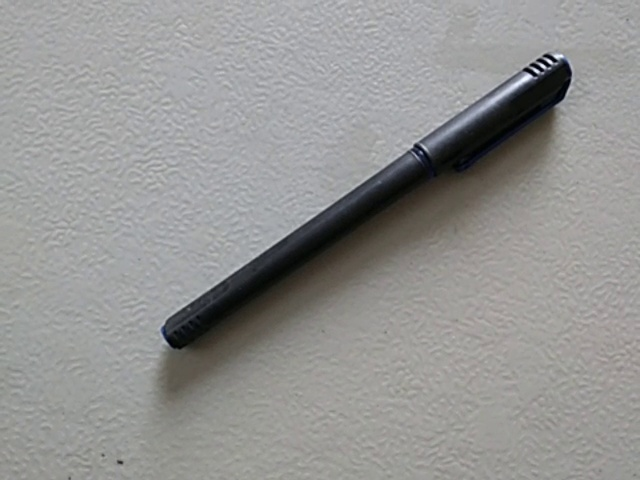Pen: (121, 50, 585, 362)
